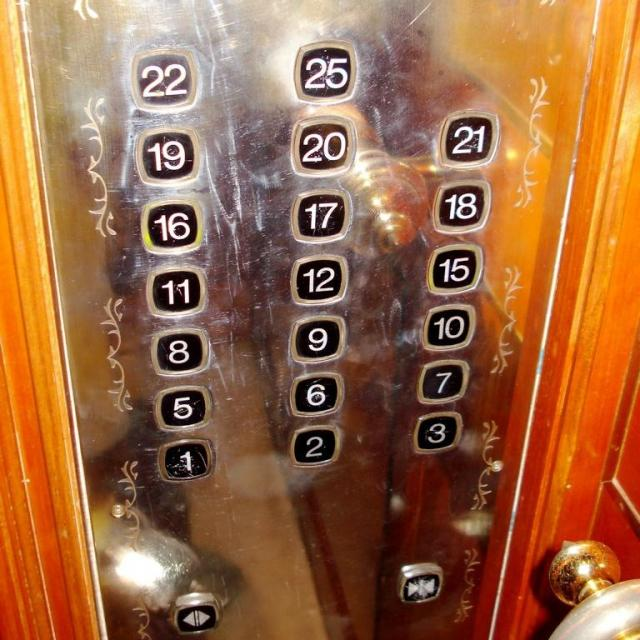1: (153, 435, 216, 483)
10: (419, 300, 477, 352)
11: (144, 266, 209, 318)
12: (288, 252, 348, 306)
15: (425, 240, 485, 295)
16: (135, 196, 204, 256)
17: (286, 189, 352, 245)
18: (432, 178, 492, 234)
19: (132, 123, 202, 186)
2: (288, 424, 341, 466)
20: (290, 114, 358, 178)
21: (434, 108, 502, 169)
22: (128, 46, 199, 112)
25: (292, 38, 358, 105)
3: (411, 408, 463, 457)
5: (153, 382, 214, 432)
6: (286, 369, 346, 418)
7: (414, 358, 468, 403)
8: (148, 325, 212, 377)
9: (288, 314, 348, 363)
close: (394, 559, 443, 603)
open: (170, 592, 221, 636)
